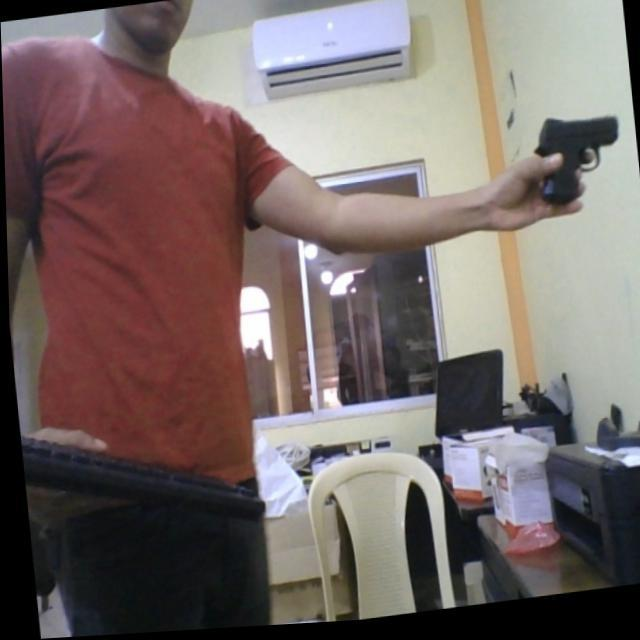weapon: (526, 114, 624, 215)
